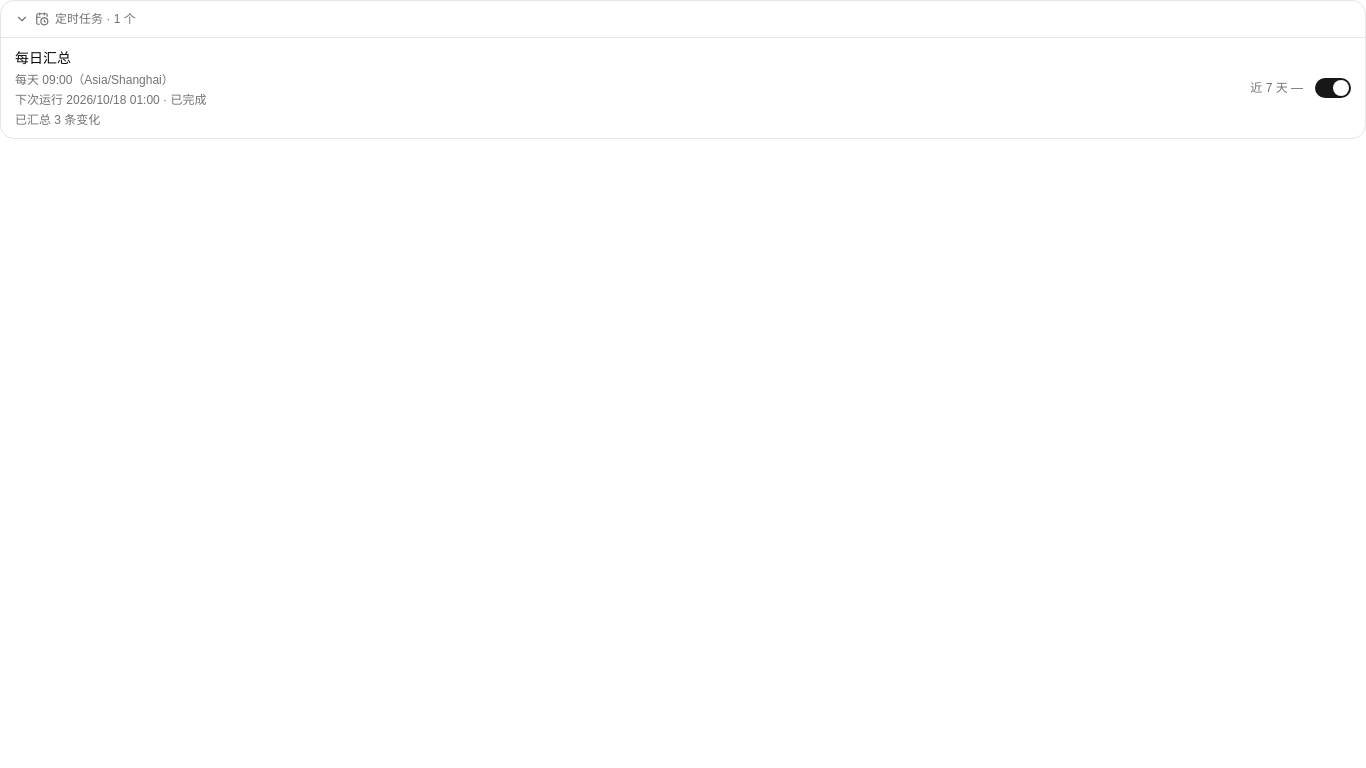
it: BotScheduleSection › 详情弹窗展示美化 JSON 状态与更新时间
Click the text "每日汇总".
click(43, 58)  # box left=15, top=48, right=71, bottom=68
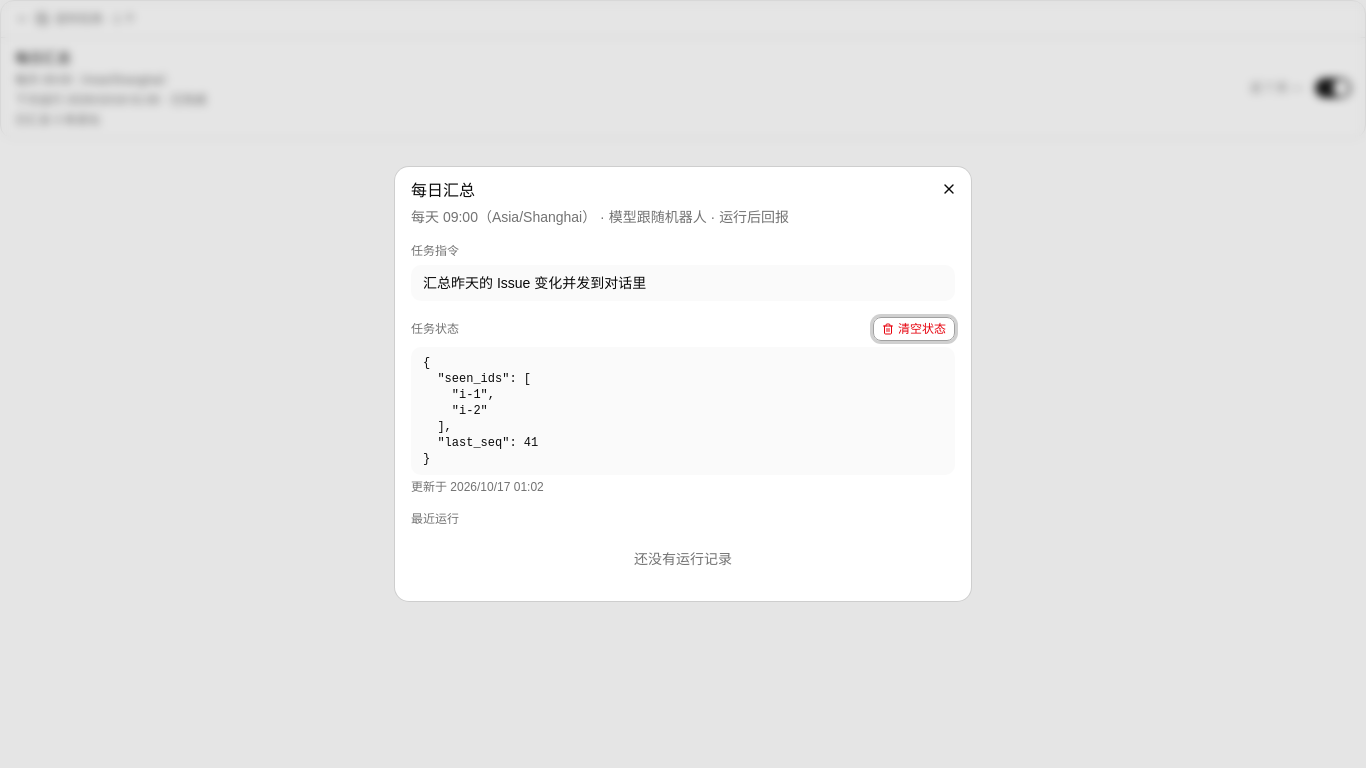
expect the dialog shows "任务状态": met, box left=411, top=322, right=459, bottom=336
expect the button "清空状态" is enabled: met, box left=873, top=317, right=955, bottom=341
